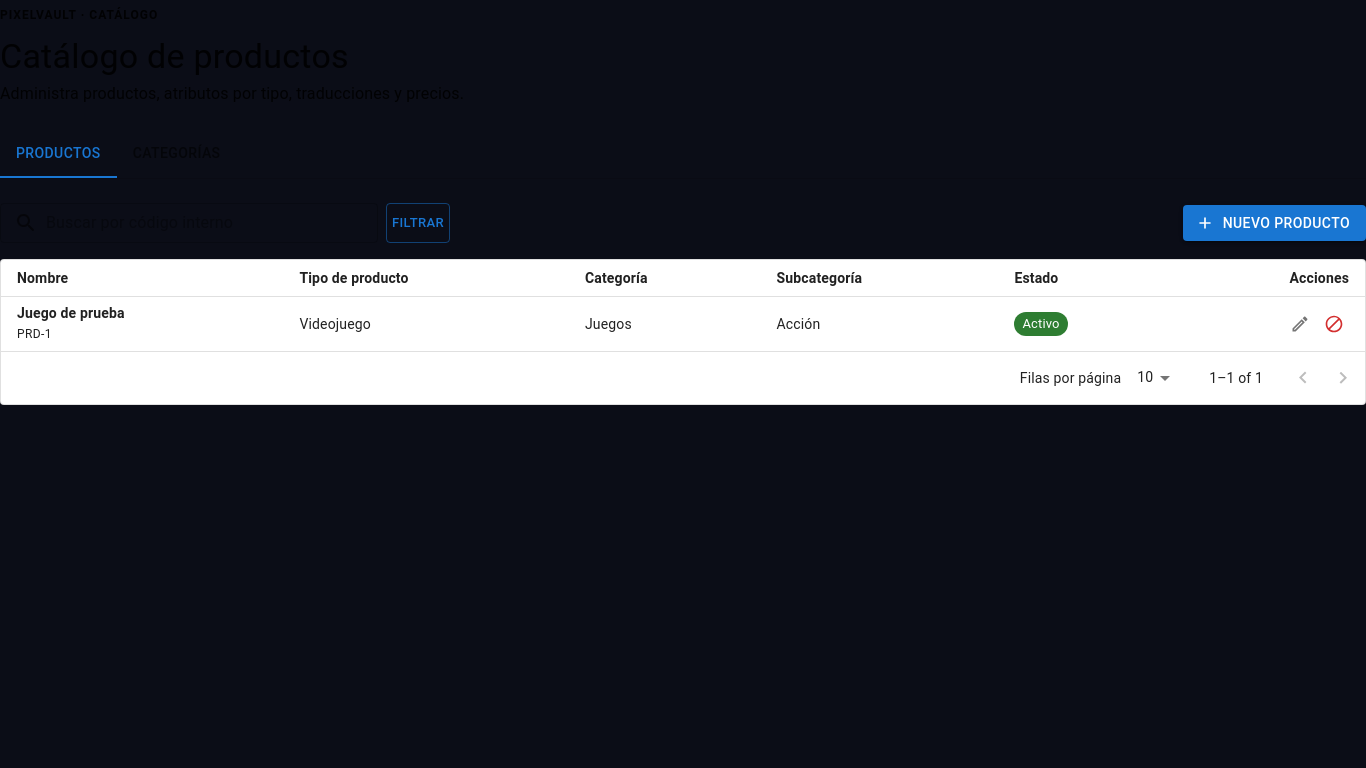
Test: CatalogPage › shows save errors instead of reporting success
Expected: the text "Juego de prueba" is shown, [17,305,125,321]
Click the button named "Editar PRD-1". click: point(1300, 324)
box: [1285,309,1315,339]
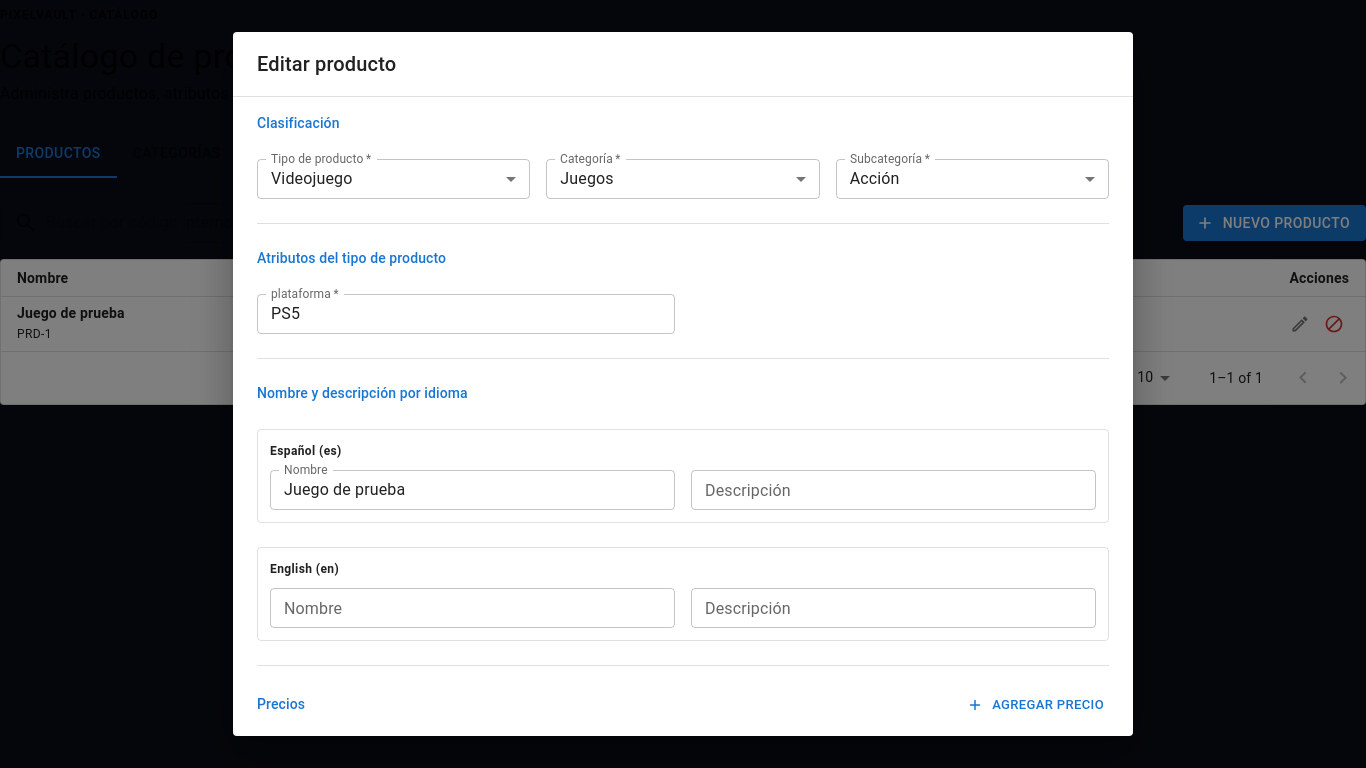
Expected: the field showing "Juego de prueba" below "Español" is shown
Type " 2" into the field labelled "Nombre" below "Español". click: point(472, 490)
box: [270,470,675,510]
(page scrolled)
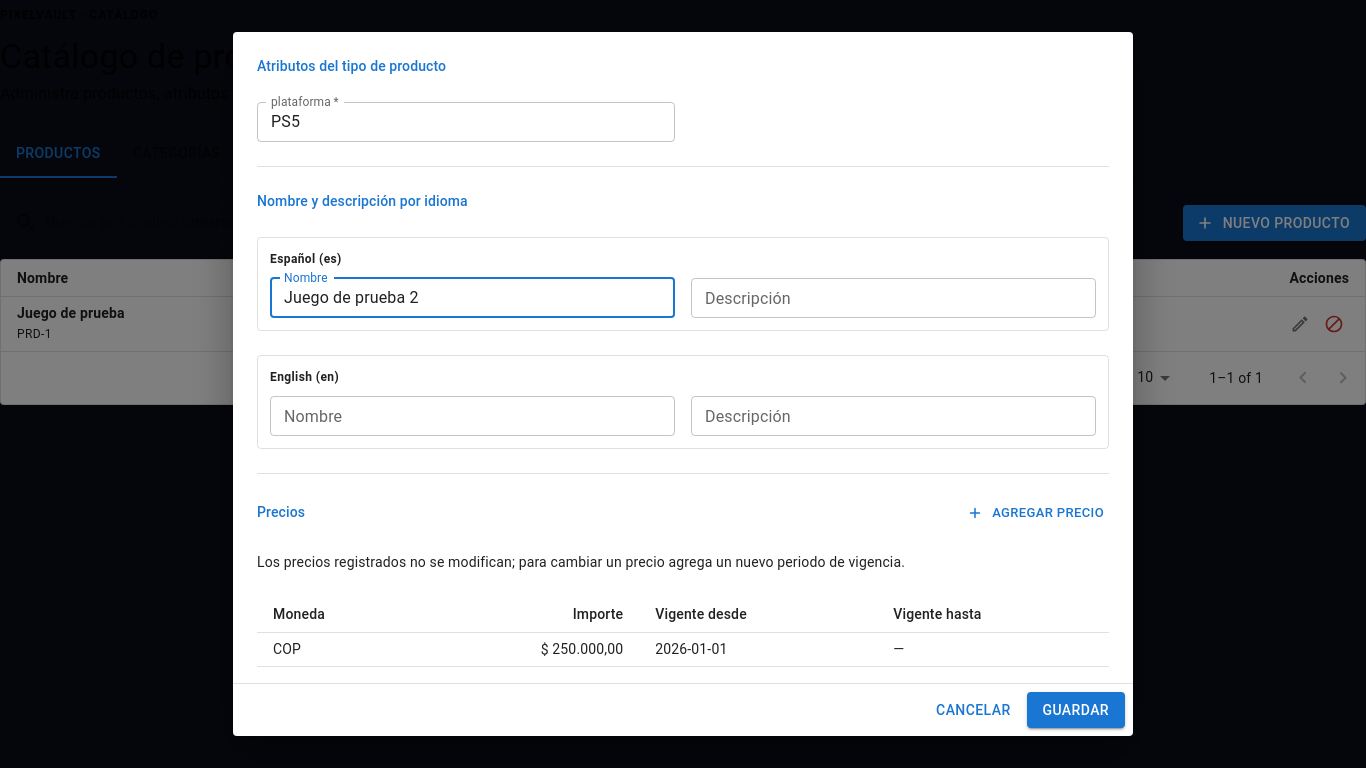
Click the button "Guardar". click: point(1076, 710)
box: [1026,692,1125,728]
(page scrolled)
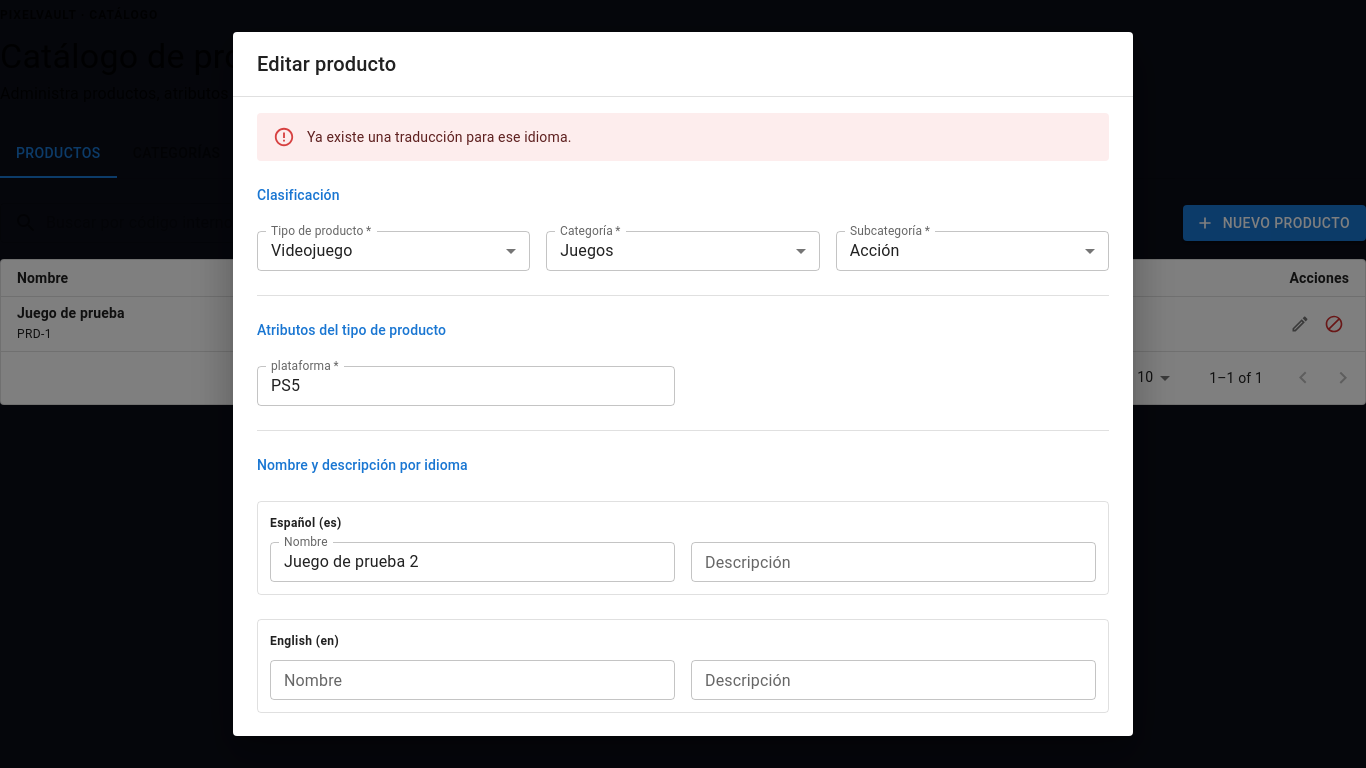
Expected: the text "Ya existe una traducción para ese idioma." is shown, [307,129,572,145]
